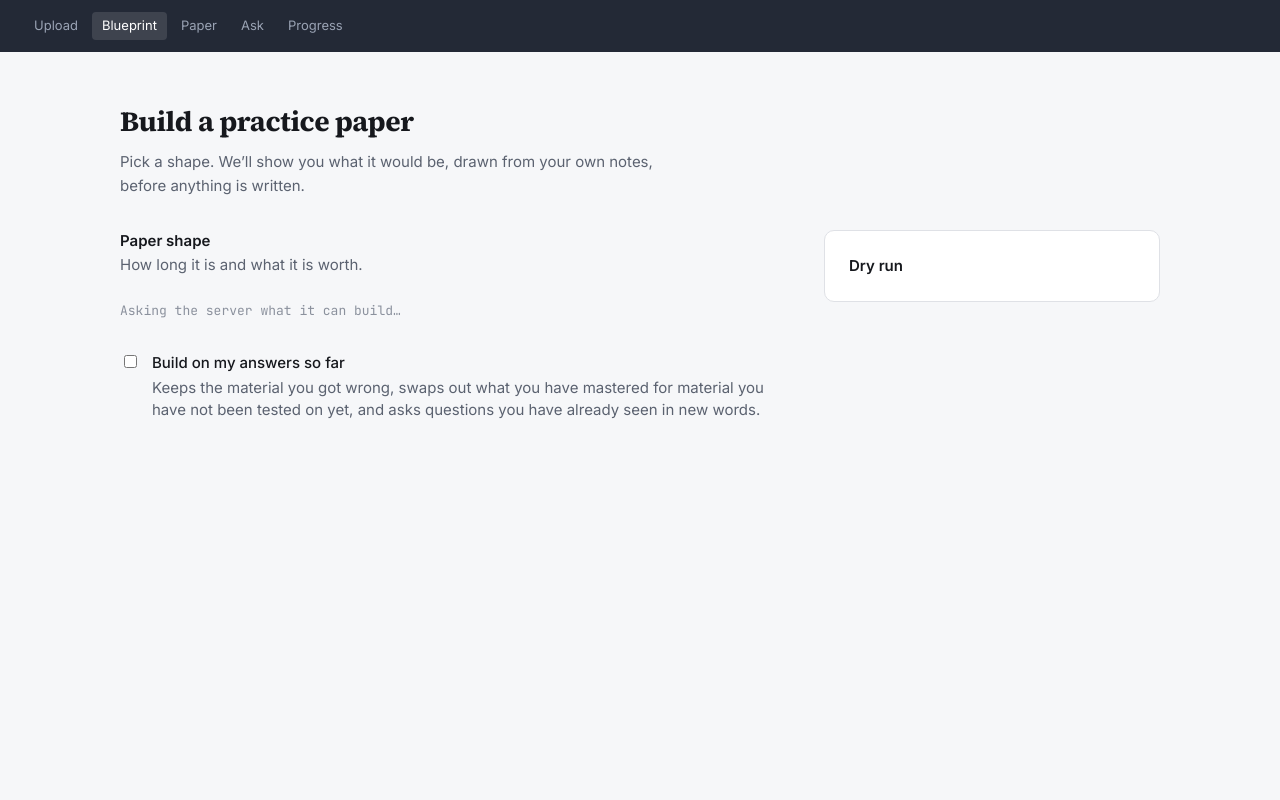
Test: taking a paper › retries marking from the results
Click the button "Paper" at (199, 26), box [171, 12, 227, 40]
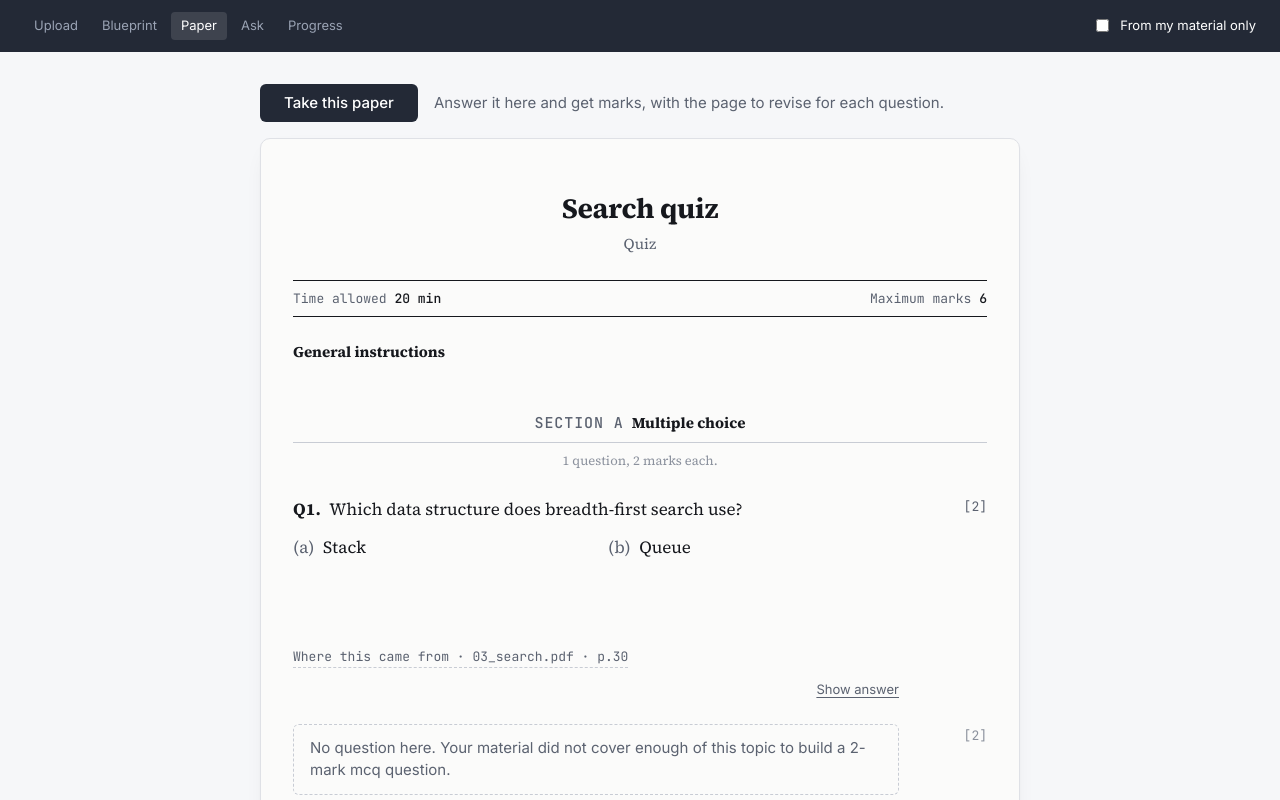
Click the button "Take this paper" at (339, 103), box [260, 84, 418, 122]
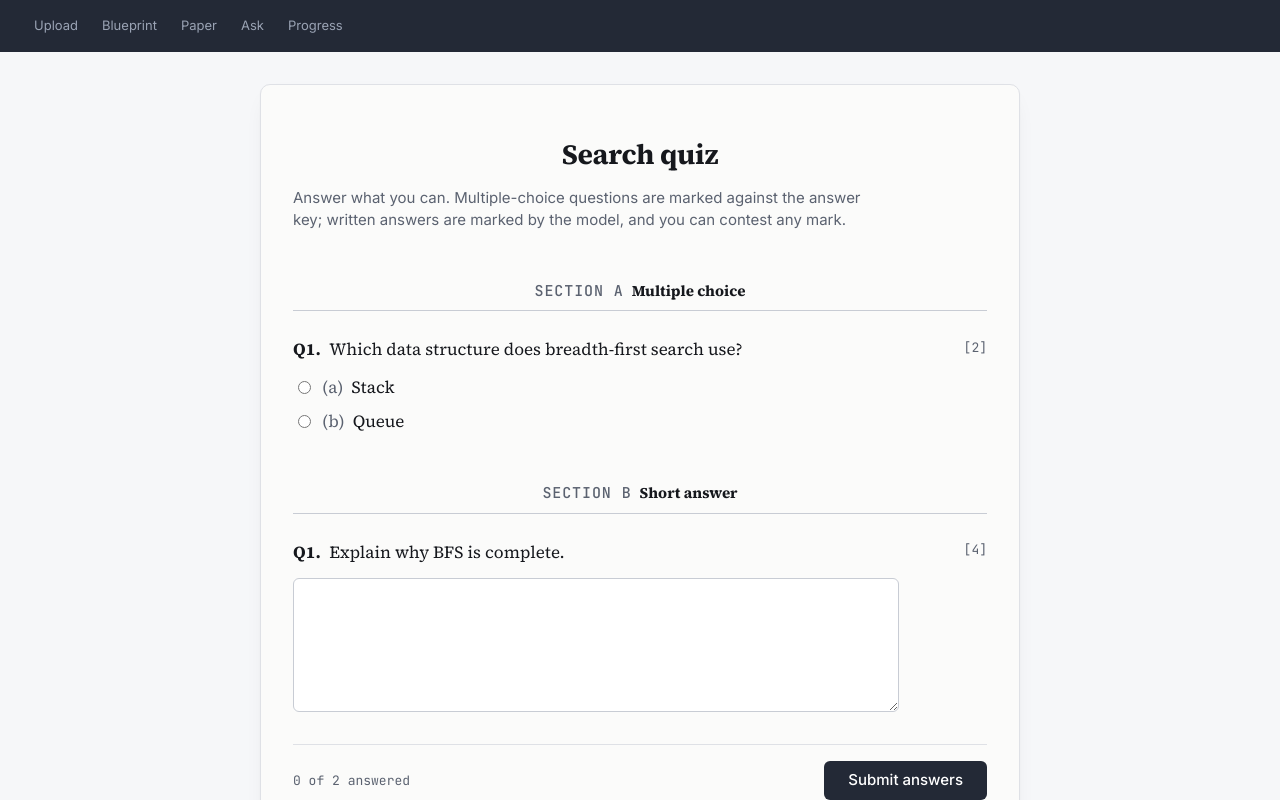
Click the button "Submit answers" at (906, 781), box [824, 761, 987, 799]
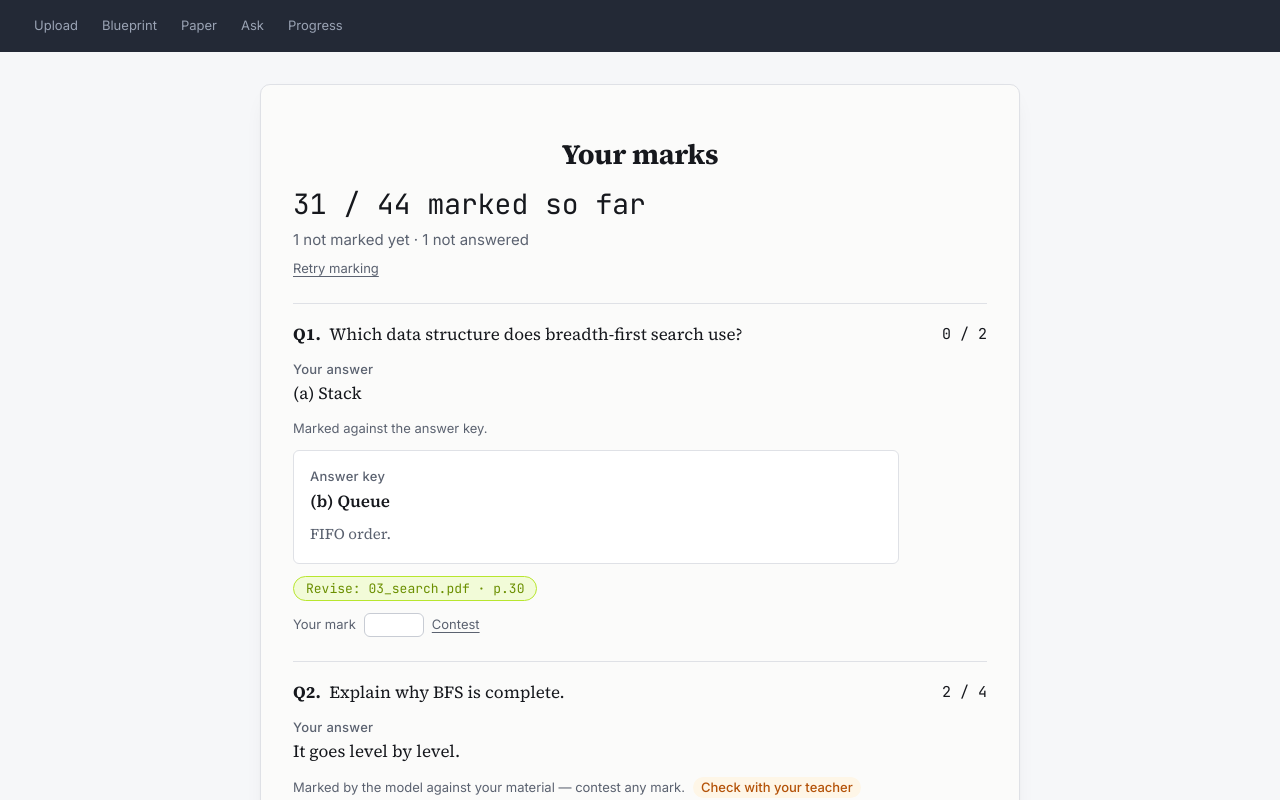
Click the button "Retry marking" at (336, 269), box [293, 259, 379, 278]
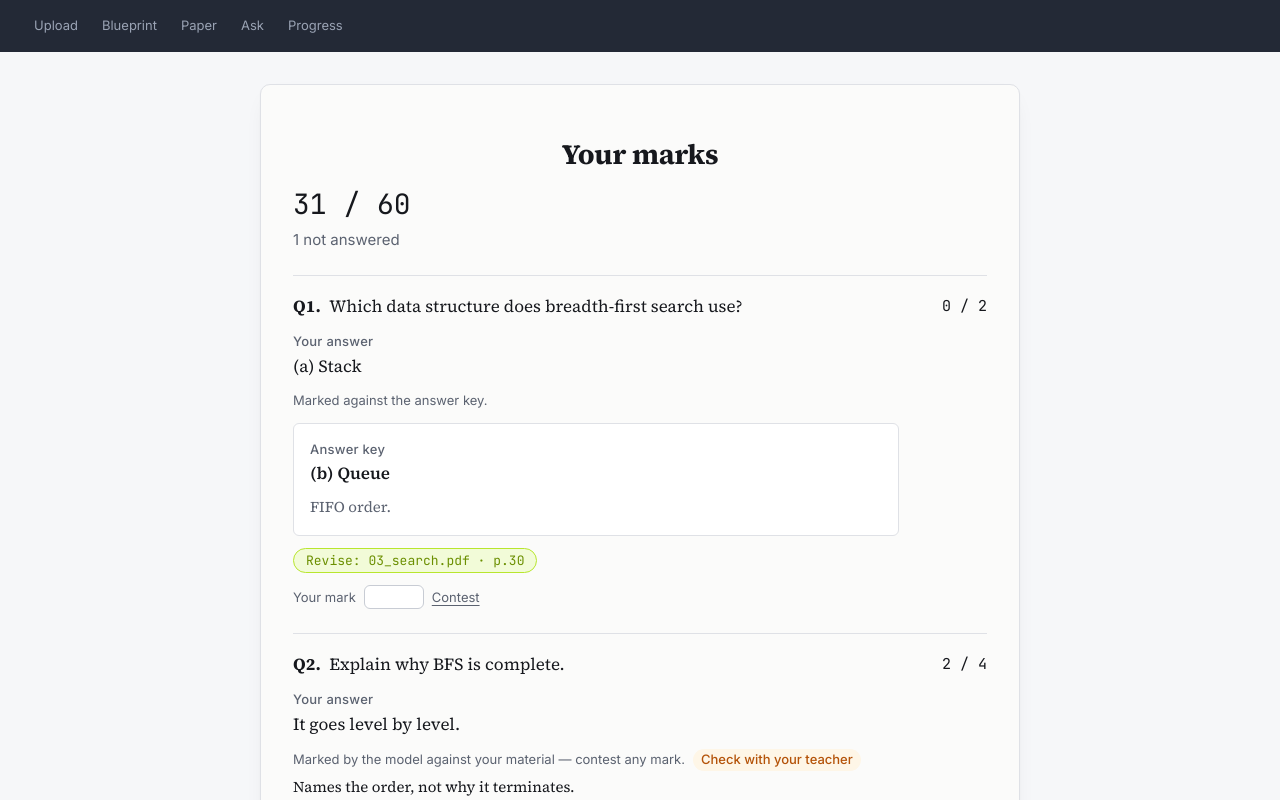
Expected: the text "marked so far" is gone
